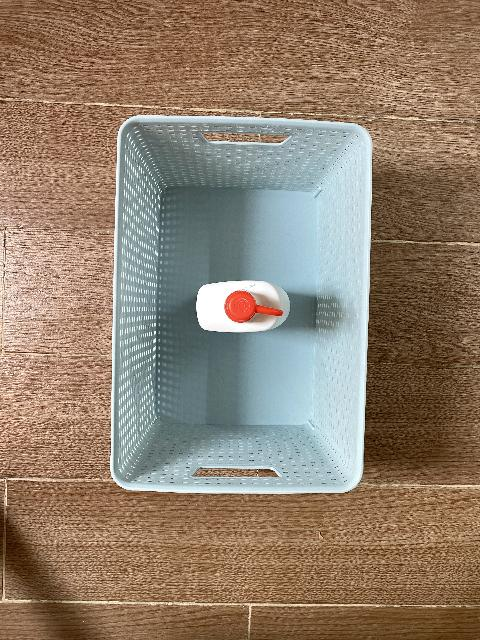cart: (110, 115, 373, 495)
life-buoy: (196, 280, 291, 333)
